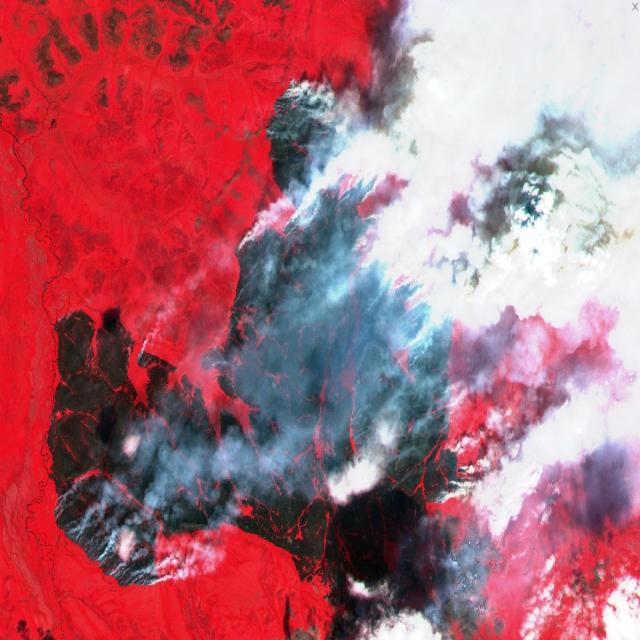fire: (49, 77, 499, 640)
